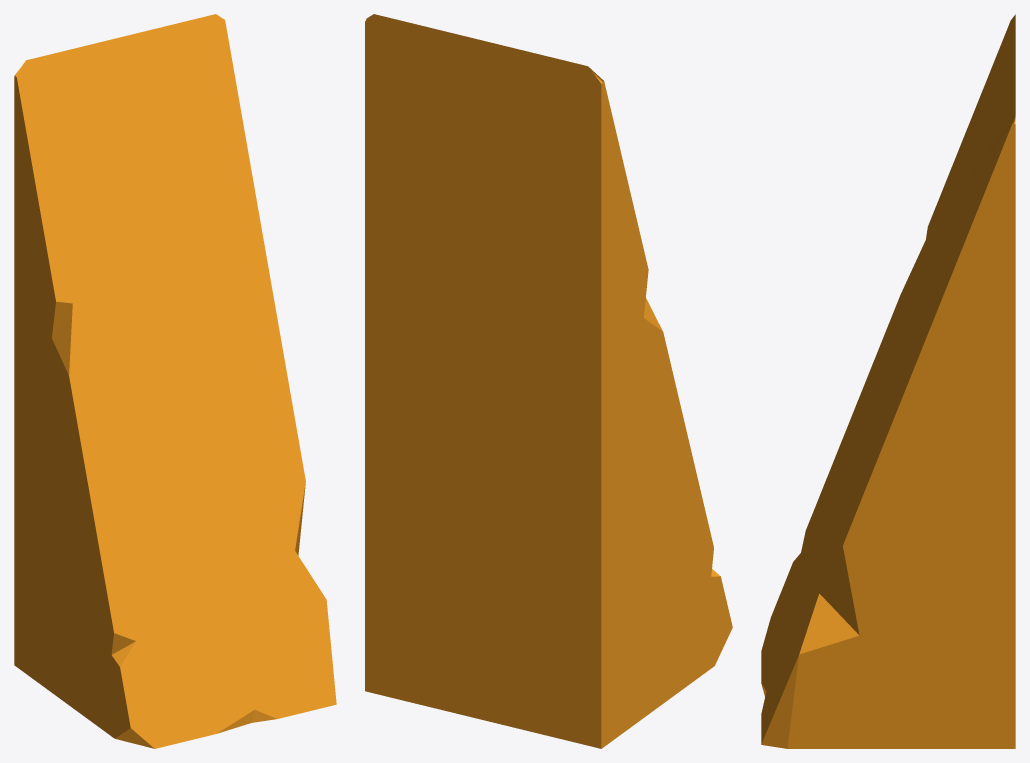
Rendered from SM_Buildings_Ramp_70_1x1_01P.fbx.
3 renders of one model, left to right at view 1: azimuth 30°, elevation 25°; view 2: azimuth 150°, elevation 25°; view 3: azimuth 270°, elevation 25°, orthographic. The views are drawn at different scales.
Visible parts, largest first — view 1: SM_Buildings_Ramp_70_1x1_01P; view 2: SM_Buildings_Ramp_70_1x1_01P; view 3: SM_Buildings_Ramp_70_1x1_01P.
Part boxes in pixels (x1,y1,x2,y2): SM_Buildings_Ramp_70_1x1_01P: (14, 14, 336, 748); SM_Buildings_Ramp_70_1x1_01P: (365, 14, 732, 748); SM_Buildings_Ramp_70_1x1_01P: (761, 14, 1015, 748).
Bounding box in the file's own units: 100 × 275 × 100.
